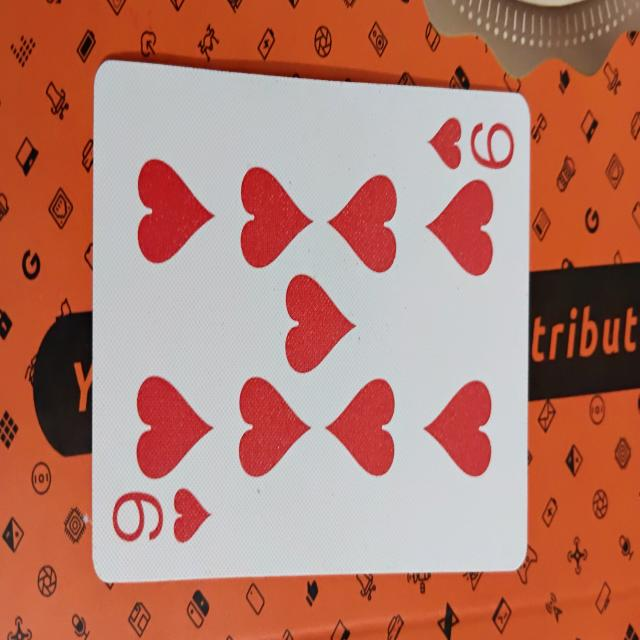9H: (92, 57, 527, 572)
